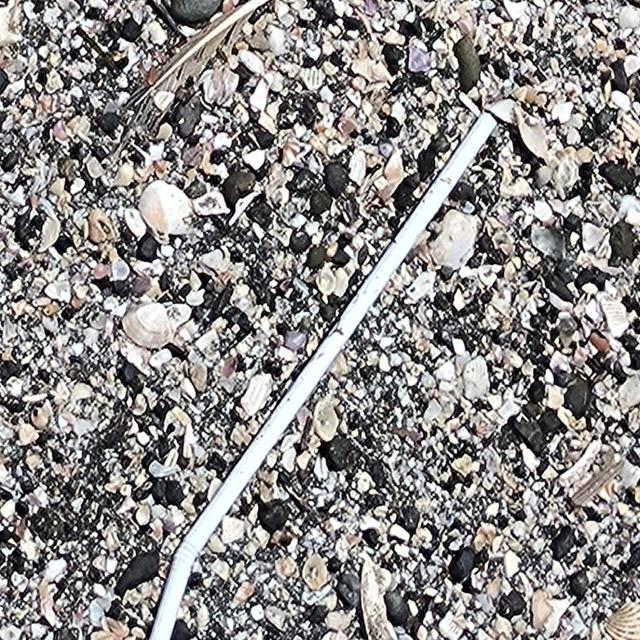plastic_waste: (147, 107, 502, 640)
